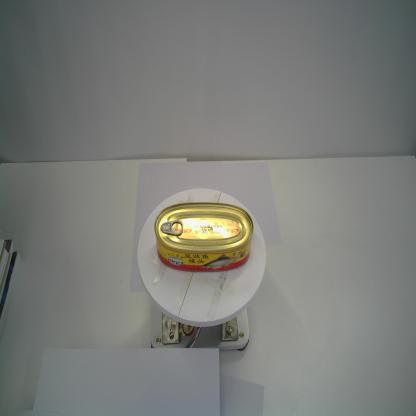Canned Food: (153, 200, 255, 275)
